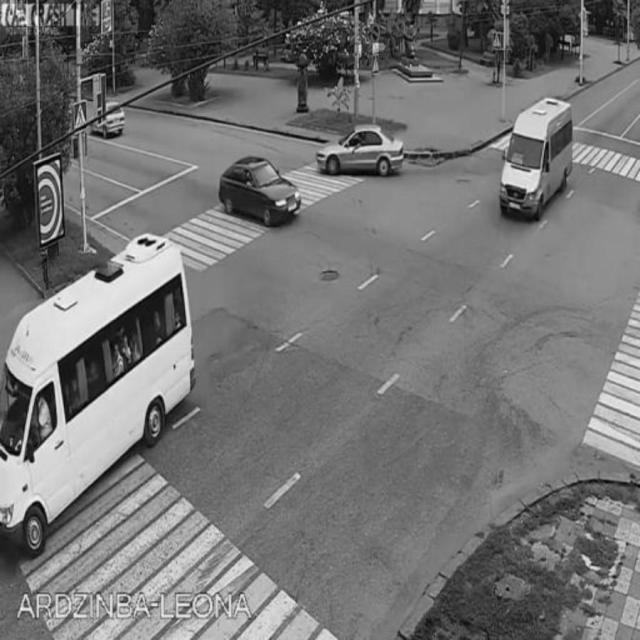vehicle: (2, 234, 197, 546), (503, 100, 576, 224), (219, 154, 297, 227), (315, 131, 406, 173), (93, 99, 123, 141)
